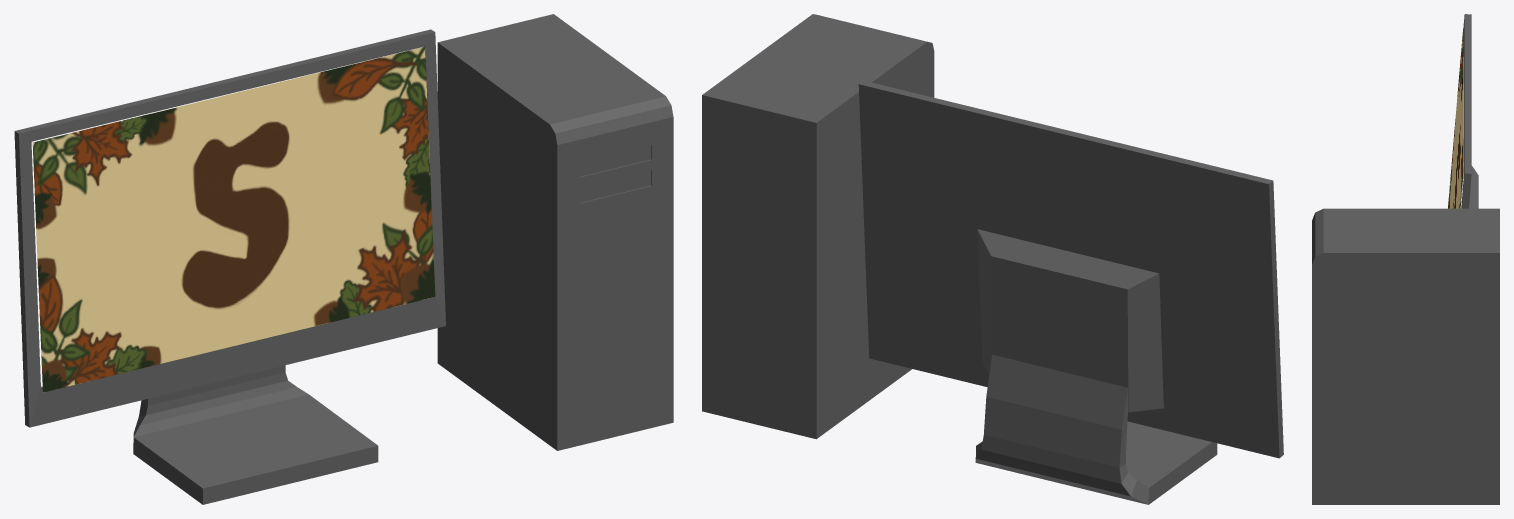
File: computer5.gltf
3 renders of one model, left to right at view 1: azimuth 30°, elevation 25°; view 2: azimuth 150°, elevation 25°; view 3: azimuth 270°, elevation 25°, orthographic. The views are drawn at different scales.
Visible parts, largest first — view 1: computer.001, Fläche.001; view 2: computer.001; view 3: computer.001, Fläche.001.
Part boxes in pixels (x1,y1,x2,y2): computer.001: [14, 14, 673, 504]; Fläche.001: [32, 47, 435, 392]; computer.001: [702, 14, 1283, 504]; computer.001: [1312, 14, 1499, 504]; Fläche.001: [1448, 28, 1463, 208].
Bounding box in the file's own units: 5.37 × 3.26 × 2.
Materials: 3 (1 with a texture image).
